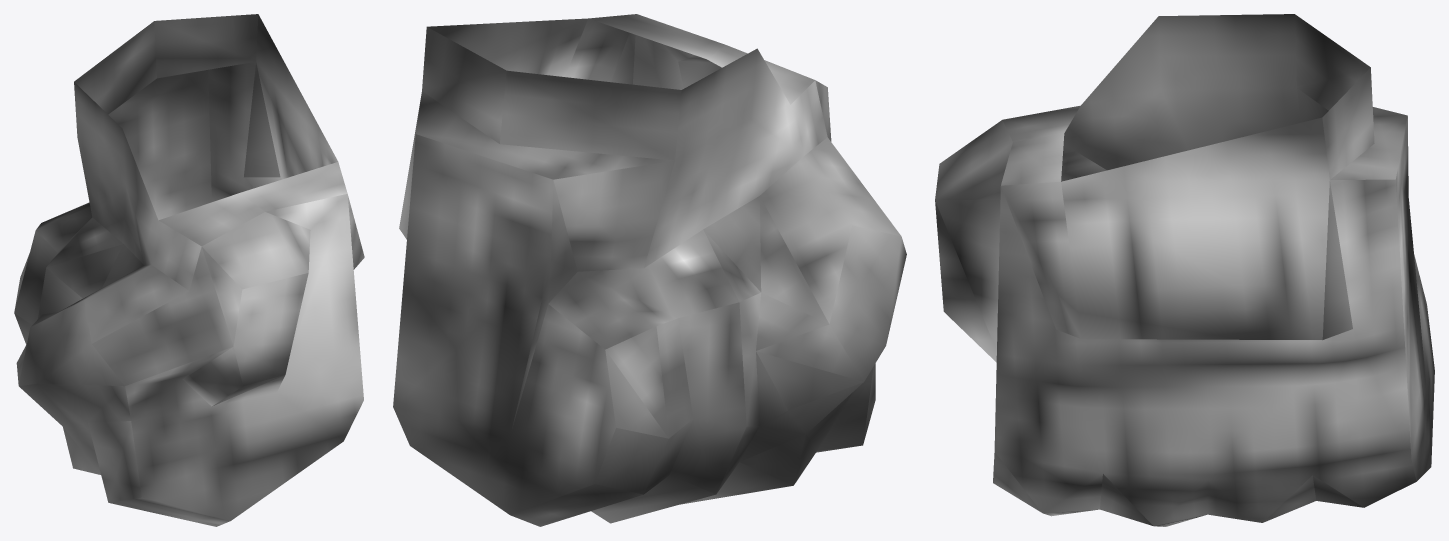
Rendered from l_hand.glb.
3 renders of one model, left to right at view 1: azimuth 30°, elevation 25°; view 2: azimuth 150°, elevation 25°; view 3: azimuth 270°, elevation 25°, orthographic. The views are drawn at different scales.
Visible parts, largest first — view 1: l_hand; view 2: l_hand; view 3: l_hand.
Part boxes in pixels (bbox=[...]): l_hand: bbox=[14, 14, 364, 526]; l_hand: bbox=[393, 14, 906, 526]; l_hand: bbox=[935, 14, 1434, 526].
Size of the model in its own units: 0.2531 by 0.3025 by 0.277.
2 materials, 2 textured.
